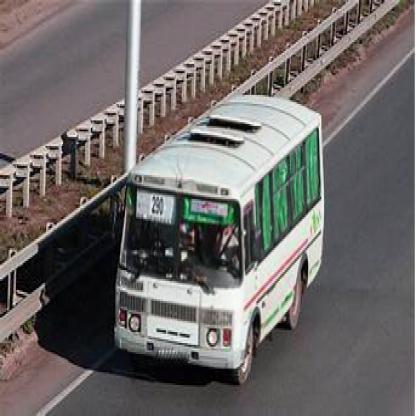bus: (128, 100, 324, 375)
